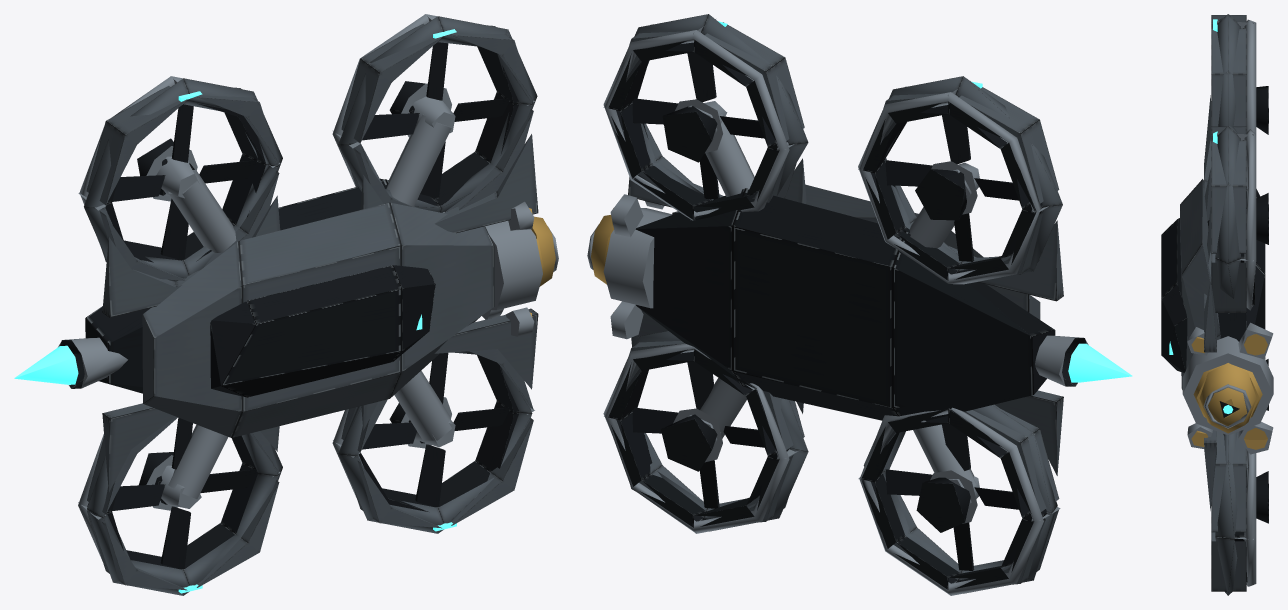
The model's file is drone-low.glb.
The picture shows the model from 3 angles, left to right: view 1: azimuth 30°, elevation 25°; view 2: azimuth 150°, elevation 25°; view 3: azimuth 270°, elevation 25°; orthographic projection. The views are drawn at different scales.
Parts seen in each view (by area): view 1: drone-root.001 / Brushed pale alloy.001, drone-root.001 / Ceramic graphite.001, drone-root.001 / Titanium edges.001, Survey rotor.005 / Ceramic graphite.001, Survey rotor.006 / Ceramic graphite.001, Survey rotor.004 / Ceramic graphite.001, Survey rotor.007 / Ceramic graphite.001, Rear jet plume.001 / Cyan instrumentation.001, Survey rotor.005 / Titanium edges.001, drone-root.001 / Ore gold / optics.001, Survey rotor.007 / Titanium edges.001, Survey rotor.004 / Titanium edges.001; view 2: drone-root.001 / Ceramic graphite.001, drone-root.001 / Brushed pale alloy.001, drone-root.001 / Titanium edges.001, Survey rotor.005 / Ceramic graphite.001, Survey rotor.004 / Ceramic graphite.001, Survey rotor.007 / Ceramic graphite.001, Survey rotor.006 / Ceramic graphite.001, Rear jet plume.001 / Cyan instrumentation.001, drone-root.001 / Ore gold / optics.001; view 3: drone-root.001 / Brushed pale alloy.001, drone-root.001 / Titanium edges.001, drone-root.001 / Ceramic graphite.001, drone-root.001 / Ore gold / optics.001, drone-root.001 / Cyan instrumentation.001.
Boxes of the visible parts, bbox=[...] form: drone-root.001 / Brushed pale alloy.001: bbox=[84, 16, 538, 595]; drone-root.001 / Ceramic graphite.001: bbox=[60, 46, 519, 569]; drone-root.001 / Titanium edges.001: bbox=[58, 14, 558, 584]; Survey rotor.005 / Ceramic graphite.001: bbox=[112, 104, 257, 260]; Survey rotor.006 / Ceramic graphite.001: bbox=[362, 353, 509, 507]; Survey rotor.004 / Ceramic graphite.001: bbox=[112, 417, 256, 569]; Survey rotor.007 / Ceramic graphite.001: bbox=[362, 42, 509, 198]; Rear jet plume.001 / Cyan instrumentation.001: bbox=[14, 345, 78, 384]; Survey rotor.005 / Titanium edges.001: bbox=[156, 156, 199, 198]; drone-root.001 / Ore gold / optics.001: bbox=[529, 208, 555, 316]; Survey rotor.007 / Titanium edges.001: bbox=[413, 96, 455, 133]; Survey rotor.004 / Titanium edges.001: bbox=[160, 465, 201, 508]; drone-root.001 / Ceramic graphite.001: bbox=[608, 39, 1086, 589]; drone-root.001 / Brushed pale alloy.001: bbox=[622, 14, 1063, 593]; drone-root.001 / Titanium edges.001: bbox=[587, 19, 1088, 595]; Survey rotor.005 / Ceramic graphite.001: bbox=[885, 107, 1018, 261]; Survey rotor.004 / Ceramic graphite.001: bbox=[885, 423, 1018, 570]; Survey rotor.007 / Ceramic graphite.001: bbox=[632, 52, 764, 199]; Survey rotor.006 / Ceramic graphite.001: bbox=[632, 361, 764, 508]; Rear jet plume.001 / Cyan instrumentation.001: bbox=[1068, 343, 1132, 382]; drone-root.001 / Ore gold / optics.001: bbox=[591, 208, 613, 312]; drone-root.001 / Brushed pale alloy.001: bbox=[1180, 14, 1246, 595]; drone-root.001 / Titanium edges.001: bbox=[1182, 19, 1273, 586]; drone-root.001 / Ceramic graphite.001: bbox=[1161, 28, 1268, 582]; drone-root.001 / Ore gold / optics.001: bbox=[1191, 334, 1267, 449]; drone-root.001 / Cyan instrumentation.001: bbox=[1169, 19, 1233, 413].
Size of the model in its own units: 1.65 by 1.52 by 0.3308.
5 materials, 2 textured.
